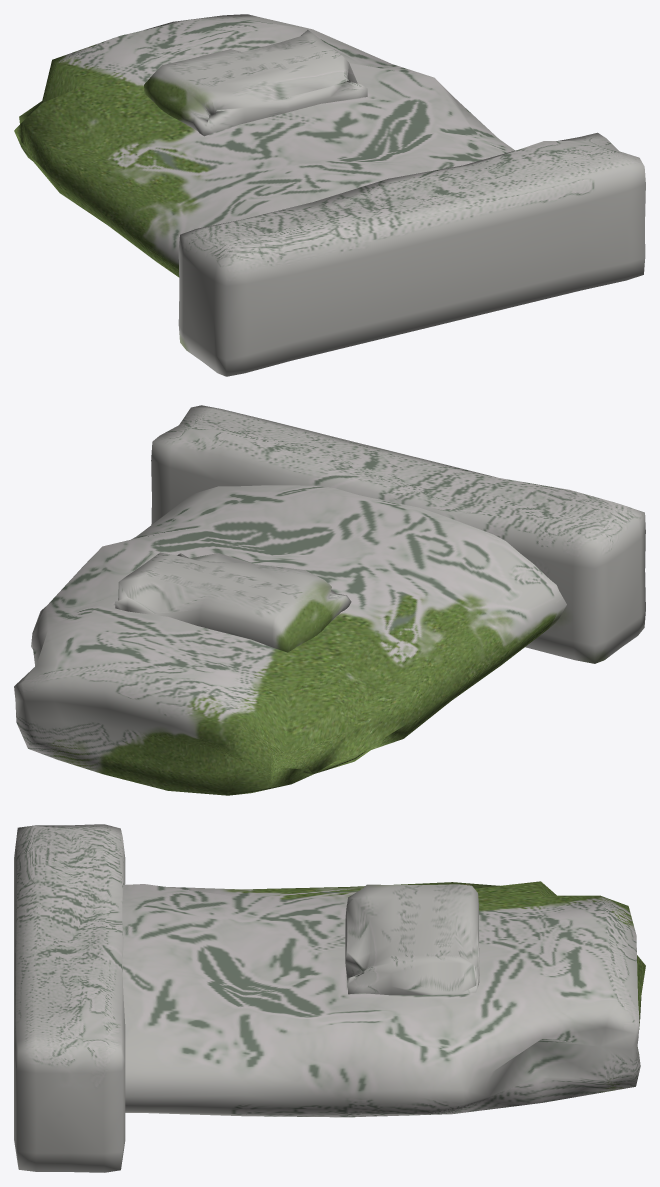
Rendered from grave.FBX.
The picture shows the model from 3 angles, top to bottom: view 1: azimuth 30°, elevation 25°; view 2: azimuth 150°, elevation 25°; view 3: azimuth 270°, elevation 25°; orthographic projection. The views are drawn at different scales.
Parts seen in each view (by area): view 1: P2_Grave_PROP; view 2: P2_Grave_PROP; view 3: P2_Grave_PROP.
Part boxes in pixels (x1,y1,x2,y2): P2_Grave_PROP: (14, 14, 645, 376); P2_Grave_PROP: (14, 405, 645, 795); P2_Grave_PROP: (14, 824, 645, 1172).
Bounding box in the file's own units: 40.09 × 11.82 × 46.81.
Materials: 1 (1 with a texture image).
